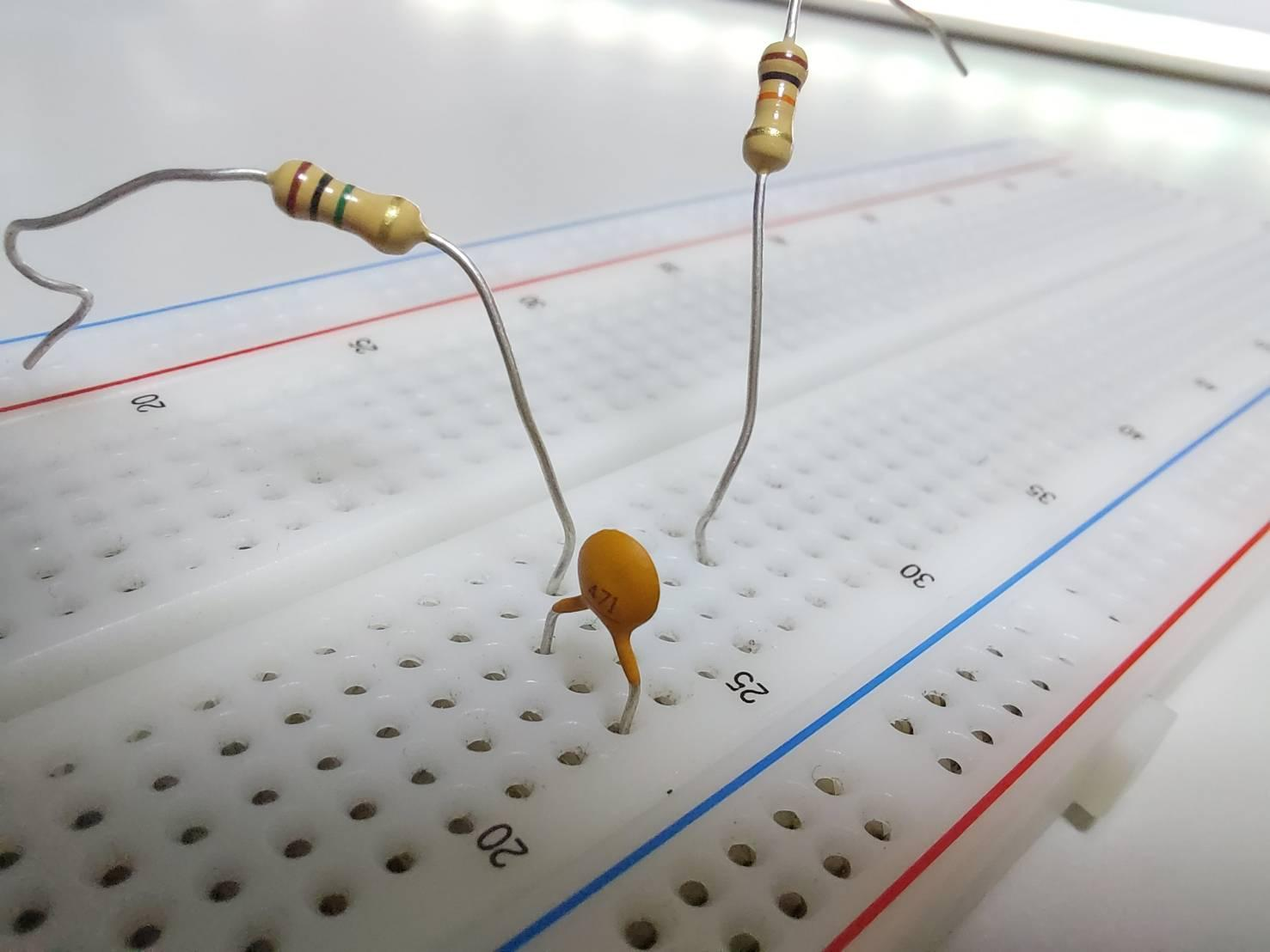resistor: (256, 152, 437, 261), (747, 34, 816, 167), (574, 526, 661, 630)
